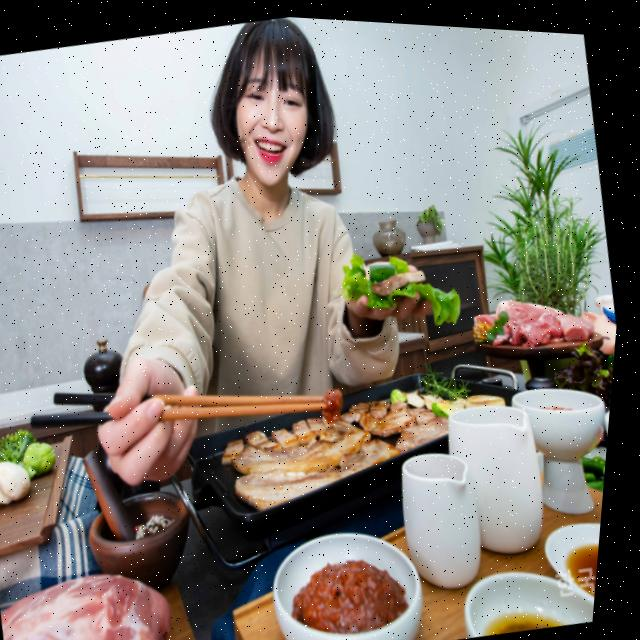eating-person: (0, 0, 565, 584)
